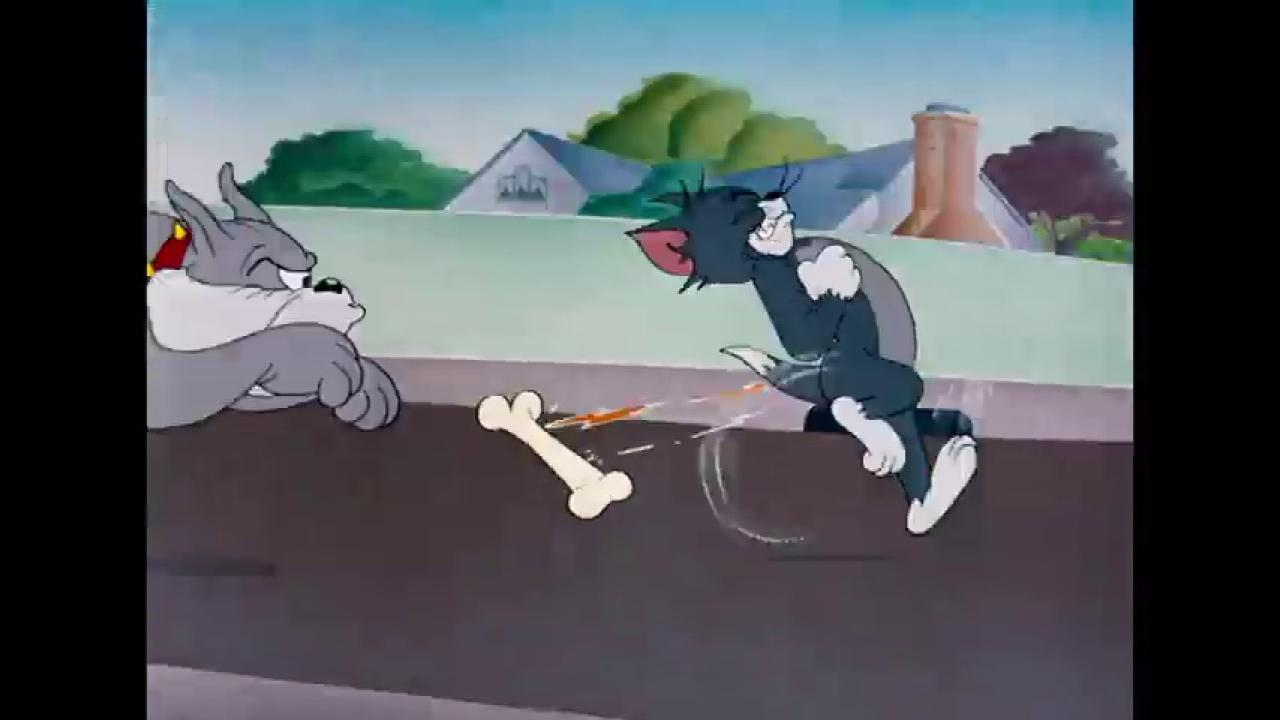Tom: (623, 180, 980, 539)
